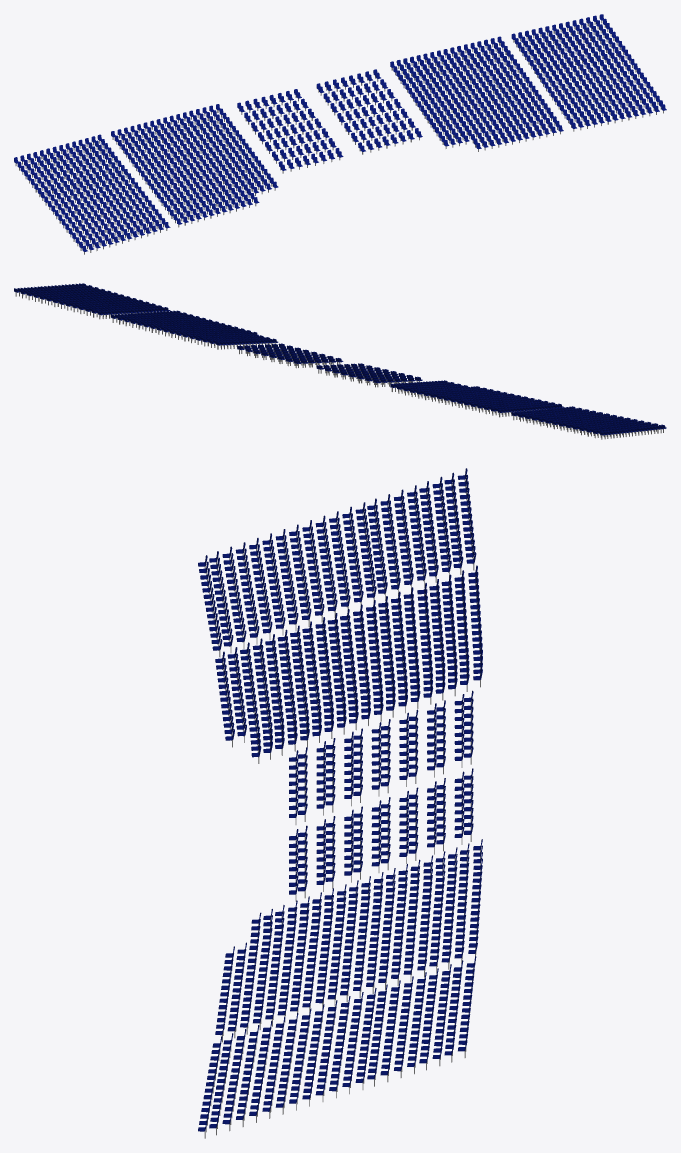
File: sillas_banquillo_LOD0.FBX
3 views of the same model, one above another, from view 1: azimuth 30°, elevation 25°; view 2: azimuth 150°, elevation 25°; view 3: azimuth 270°, elevation 25° (orthographic). The views are drawn at different scales.
Visible parts, largest first — view 1: Silla_LOD0_03, Silla_LOD0_09, Silla_LOD0_10, Silla_LOD0_04, Silla_LOD0_05, Silla_LOD0_11, Silla_LOD0_06, Silla_LOD0_12, Silla_LOD0_08, Silla_LOD0_02, Silla_LOD0_07, Silla_LOD0_01; view 2: Silla_LOD0_10, Silla_LOD0_04, Silla_LOD0_06, Silla_LOD0_12, Silla_LOD0_09, Silla_LOD0_11, Silla_LOD0_05, Silla_LOD0_03, Silla_LOD0_08, Silla_LOD0_02, Silla_LOD0_07, Silla_LOD0_01; view 3: Silla_LOD0_03, Silla_LOD0_04, Silla_LOD0_05, Silla_LOD0_09, Silla_LOD0_10, Silla_LOD0_06, Silla_LOD0_11, Silla_LOD0_12, Silla_LOD0_02, Silla_LOD0_08, Silla_LOD0_01, Silla_LOD0_07.
Boxes of the visible parts, bbox=[...] form: Silla_LOD0_03: bbox=[144, 147, 278, 227]; Silla_LOD0_09: bbox=[420, 81, 563, 151]; Silla_LOD0_10: bbox=[390, 36, 529, 110]; Silla_LOD0_04: bbox=[111, 104, 248, 179]; Silla_LOD0_05: bbox=[47, 178, 170, 254]; Silla_LOD0_11: bbox=[541, 59, 666, 131]; Silla_LOD0_06: bbox=[14, 134, 131, 205]; Silla_LOD0_12: bbox=[511, 14, 631, 82]; Silla_LOD0_08: bbox=[316, 69, 401, 125]; Silla_LOD0_02: bbox=[237, 89, 322, 144]; Silla_LOD0_07: bbox=[344, 108, 422, 154]; Silla_LOD0_01: bbox=[265, 128, 343, 173]; Silla_LOD0_10: bbox=[111, 312, 250, 349]; Silla_LOD0_04: bbox=[390, 382, 530, 417]; Silla_LOD0_06: bbox=[511, 409, 632, 439]; Silla_LOD0_12: bbox=[14, 286, 132, 319]; Silla_LOD0_09: bbox=[144, 310, 278, 347]; Silla_LOD0_11: bbox=[47, 283, 169, 313]; Silla_LOD0_05: bbox=[541, 406, 666, 436]; Silla_LOD0_03: bbox=[420, 380, 563, 410]; Silla_LOD0_08: bbox=[237, 344, 322, 368]; Silla_LOD0_02: bbox=[316, 364, 401, 387]; Silla_LOD0_07: bbox=[265, 343, 343, 366]; Silla_LOD0_01: bbox=[344, 363, 422, 383]; Silla_LOD0_03: bbox=[215, 609, 358, 763]; Silla_LOD0_04: bbox=[353, 565, 482, 725]; Silla_LOD0_05: bbox=[198, 511, 350, 657]; Silla_LOD0_09: bbox=[215, 880, 358, 1042]; Silla_LOD0_10: bbox=[353, 839, 482, 998]; Silla_LOD0_06: bbox=[342, 468, 476, 605]; Silla_LOD0_11: bbox=[198, 996, 350, 1138]; Silla_LOD0_12: bbox=[342, 956, 476, 1094]; Silla_LOD0_02: bbox=[371, 690, 473, 796]; Silla_LOD0_08: bbox=[371, 768, 473, 872]; Silla_LOD0_01: bbox=[289, 728, 362, 824]; Silla_LOD0_07: bbox=[289, 806, 362, 901].
Bounding box in the file's own units: 7999 × 653 × 1676.
